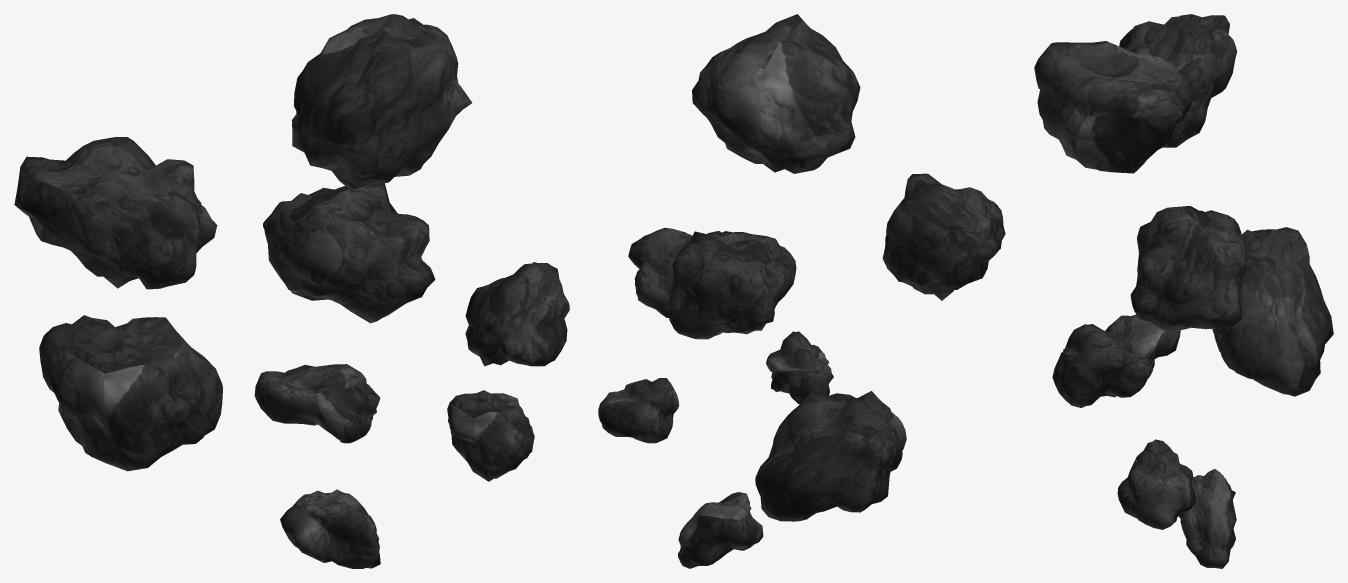
Rendered from asteroids.glb.
3 renders of one model, left to right at view 1: azimuth 30°, elevation 25°; view 2: azimuth 150°, elevation 25°; view 3: azimuth 270°, elevation 25°, orthographic. The views are drawn at different scales.
Visible parts, largest first — view 1: Asteroid.007, Asteroid.006, Asteroid.005, Asteroid, Asteroid.004, Asteroid.003, Asteroid.001, Asteroid.002; view 2: Asteroid.007, Asteroid.005, Asteroid, Asteroid.006, Asteroid.002, Asteroid.001, Asteroid.004, Asteroid.003; view 3: Asteroid.007, Asteroid.005, Asteroid, Asteroid.006, Asteroid.004, Asteroid.001, Asteroid.002, Asteroid.003.
Boxes of the visible parts, left/top/right/bottom form: Asteroid.007: left=291, top=14, right=472, bottom=190; Asteroid.006: left=14, top=137, right=217, bottom=289; Asteroid.005: left=39, top=315, right=222, bottom=471; Asteroid: left=263, top=183, right=435, bottom=323; Asteroid.004: left=465, top=262, right=569, bottom=366; Asteroid.003: left=254, top=364, right=380, bottom=443; Asteroid.001: left=447, top=390, right=534, bottom=481; Asteroid.002: left=280, top=489, right=380, bottom=568; Asteroid.007: left=692, top=14, right=860, bottom=173; Asteroid.005: left=755, top=390, right=906, bottom=521; Asteroid: left=668, top=231, right=796, bottom=339; Asteroid.006: left=882, top=173, right=1005, bottom=300; Asteroid.002: left=678, top=492, right=763, bottom=568; Asteroid.001: left=598, top=378, right=679, bottom=443; Asteroid.004: left=628, top=227, right=692, bottom=317; Asteroid.003: left=766, top=331, right=833, bottom=404; Asteroid.007: left=1034, top=41, right=1194, bottom=173; Asteroid.005: left=1212, top=227, right=1333, bottom=396; Asteroid: left=1130, top=206, right=1247, bottom=331; Asteroid.006: left=1119, top=14, right=1237, bottom=147; Asteroid.004: left=1052, top=324, right=1152, bottom=407; Asteroid.001: left=1117, top=439, right=1195, bottom=529; Asteroid.002: left=1178, top=469, right=1236, bottom=568; Asteroid.003: left=1105, top=314, right=1180, bottom=369.
Size of the model in its own units: 11.14 by 12.9 by 6.86.
Materials: 1 (1 with a texture image).
